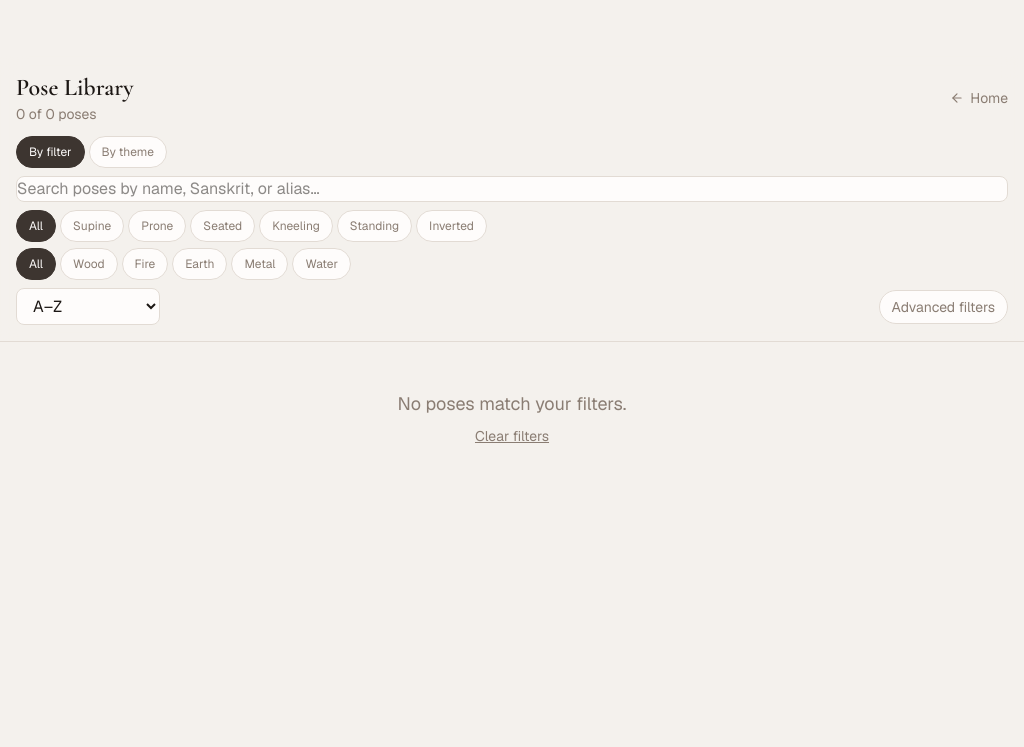
Scenario: multi-select chip groups (FR-020, FR-021, SC-008) › swaps the mark when selected
The image size is (1024, 747).
Click the button "Advanced filters": (943, 306) [878, 290, 1008, 324]
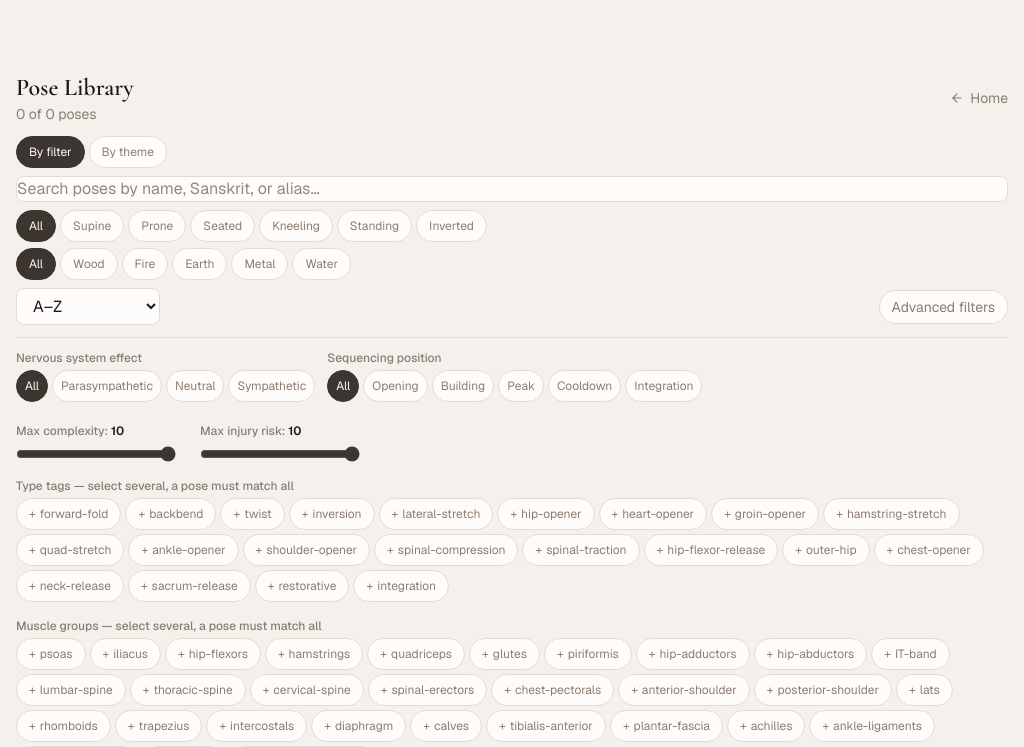
Result: the button "+ forward-fold" is shown
Click the button "+ forward-fold": (69, 514) [16, 498, 122, 530]
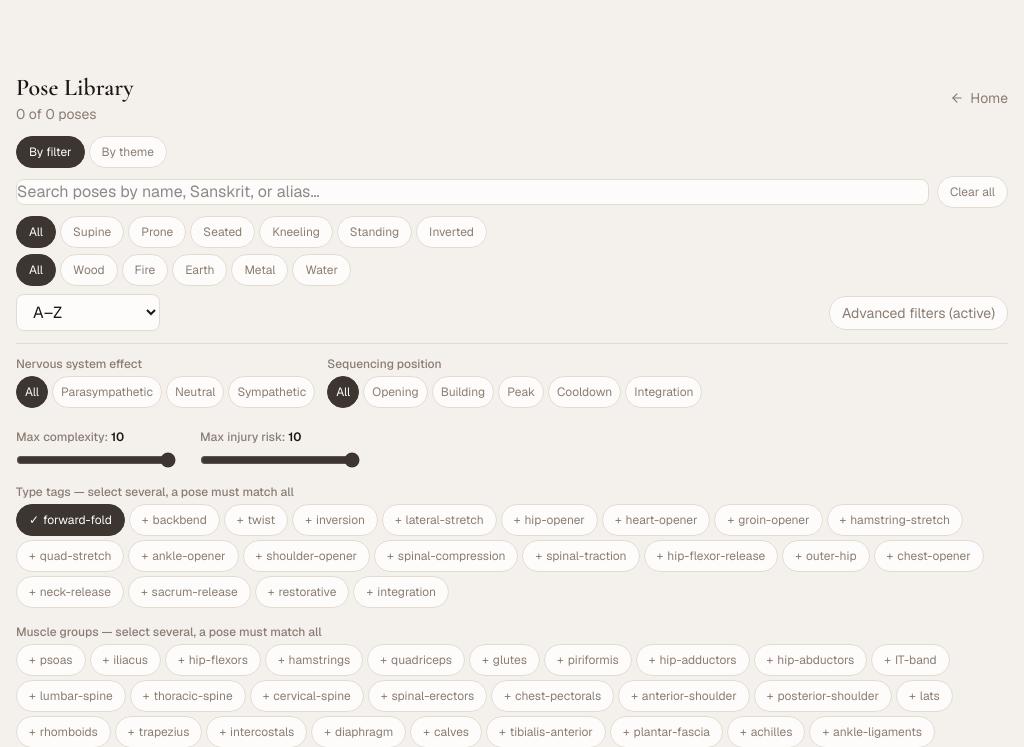
Result: the button "✓ forward-fold" is shown at [16, 504, 125, 536]
